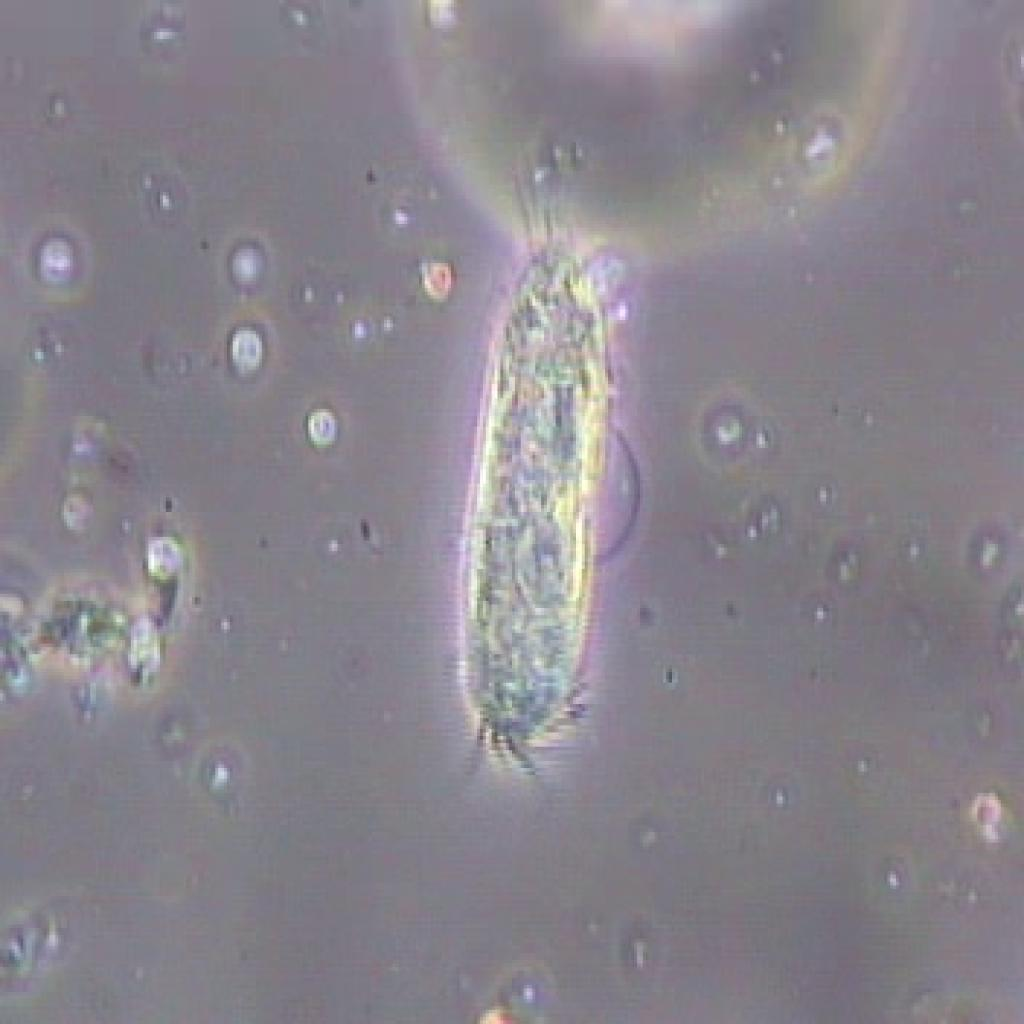Stylonychia: (442, 201, 649, 812)
